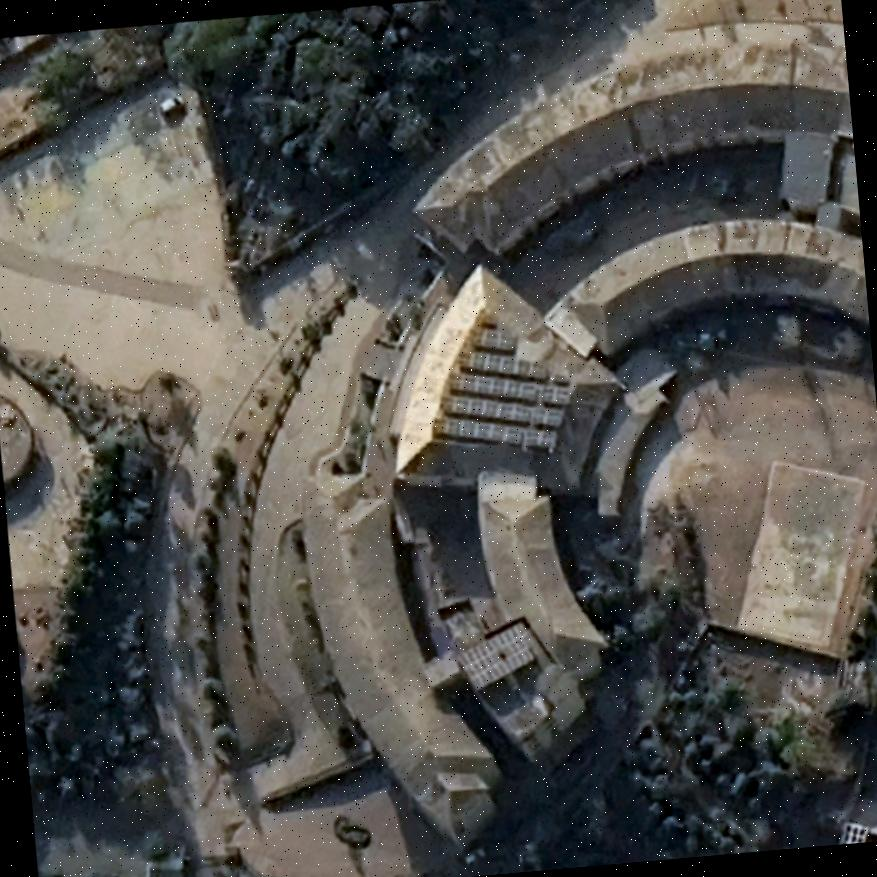Solarpanel: (438, 321, 577, 407), (437, 389, 564, 451), (449, 616, 544, 691)
